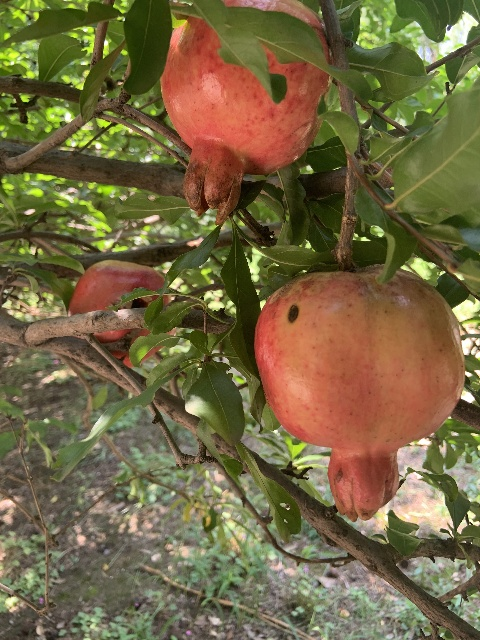ripe: (255, 269, 464, 522), (160, 0, 330, 224), (68, 261, 175, 368)
